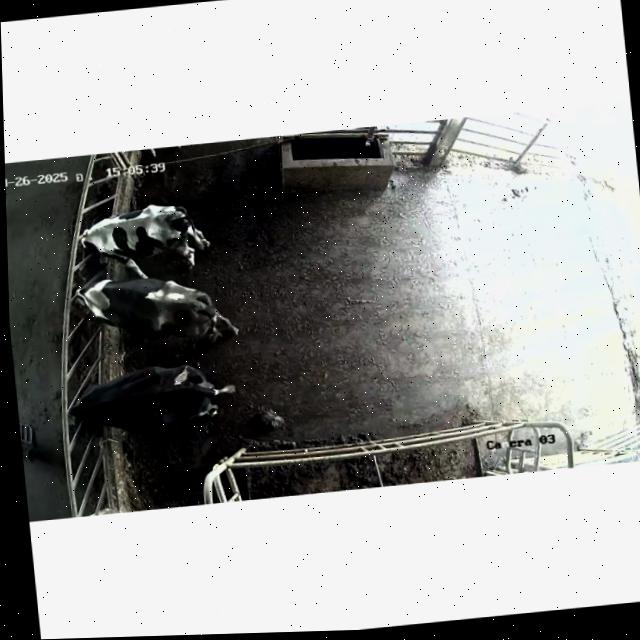eat: (48, 369, 131, 439), (34, 212, 128, 269), (40, 274, 128, 320)
